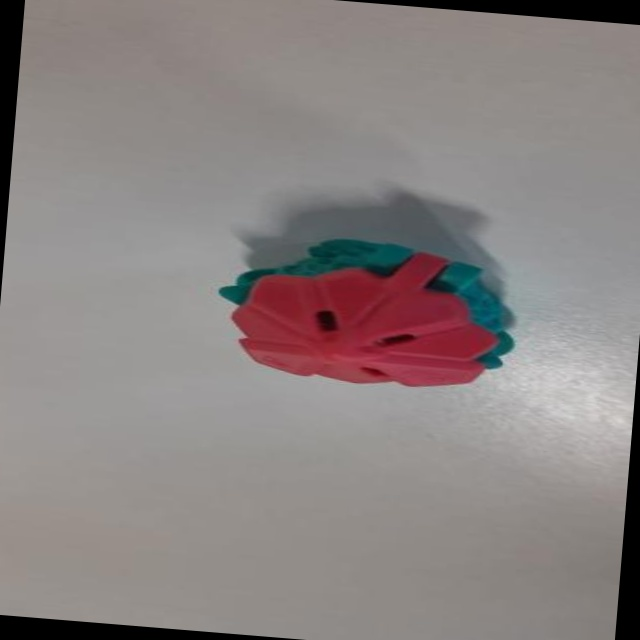House: (210, 219, 537, 409)
